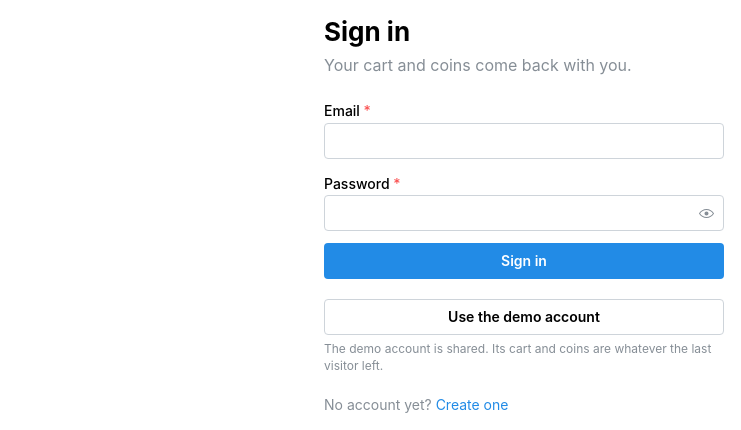
Test: LoginPage › signs in as the demo with one click
What coordinates should you click on to do the following:
click the button "Use the demo account"
I would click on:
 (524, 318)
Its box is top-left (324, 300), bottom-right (724, 336).
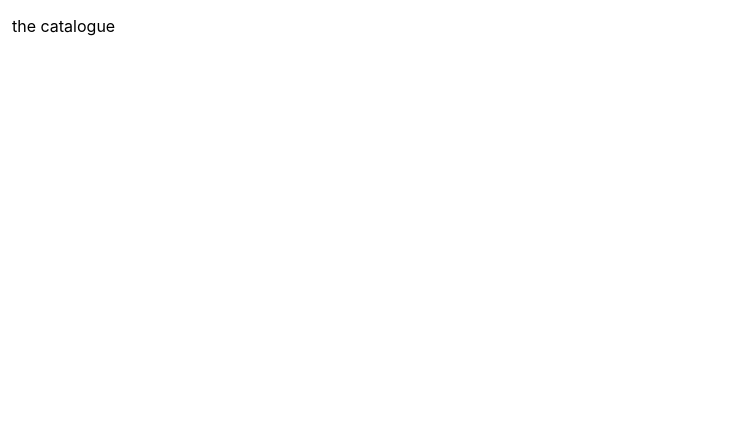
Expected: the text "the catalogue" is shown, top-left (12, 16), bottom-right (115, 36)
